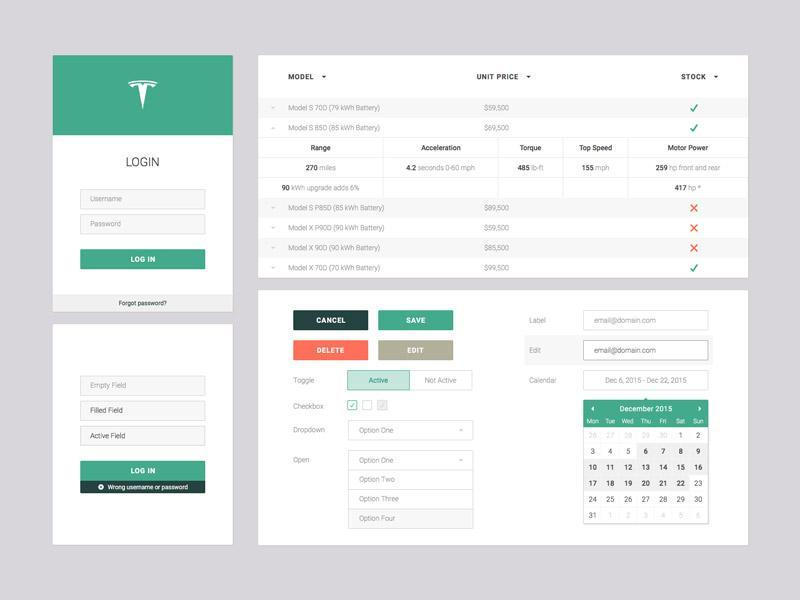button: (81, 249, 208, 271), (81, 462, 206, 483), (349, 509, 473, 529), (350, 472, 474, 491), (349, 491, 474, 508), (379, 311, 455, 332), (379, 341, 454, 362), (294, 311, 370, 331), (294, 341, 370, 361)
checkbox: (377, 400, 389, 411), (348, 401, 359, 411), (363, 401, 374, 411)
dropdown: (349, 421, 474, 441), (349, 451, 474, 471)
input: (81, 376, 206, 398), (82, 215, 207, 236), (81, 191, 207, 211), (81, 401, 207, 421), (584, 341, 710, 361), (584, 371, 709, 391), (584, 312, 710, 331), (81, 427, 206, 446)
label: (124, 156, 167, 172), (527, 373, 565, 390), (525, 312, 557, 331), (291, 426, 328, 438), (527, 343, 551, 359), (293, 402, 327, 413), (292, 454, 315, 468), (292, 376, 319, 387)
radio: (348, 371, 411, 391), (411, 371, 473, 391)
